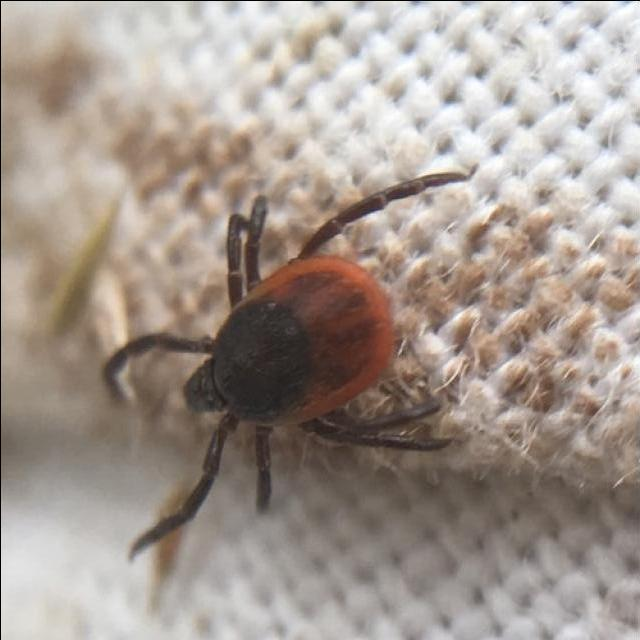Ixodes Ricinus-F: (102, 170, 472, 562)
